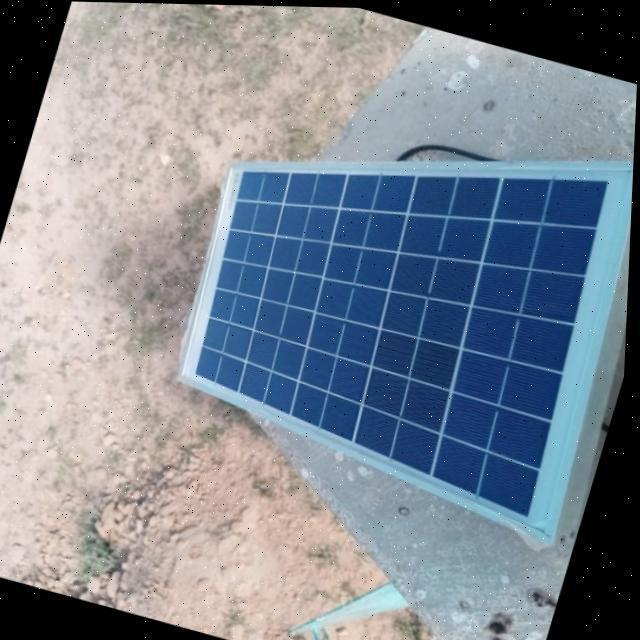Normal Solar Panel: (150, 58, 638, 537)
